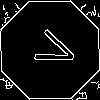V: (25, 25, 80, 73)
